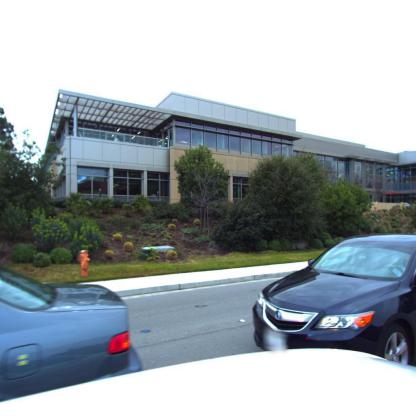car: (247, 233, 416, 363), (3, 256, 138, 414)
fire hydrant: (76, 249, 95, 276)
